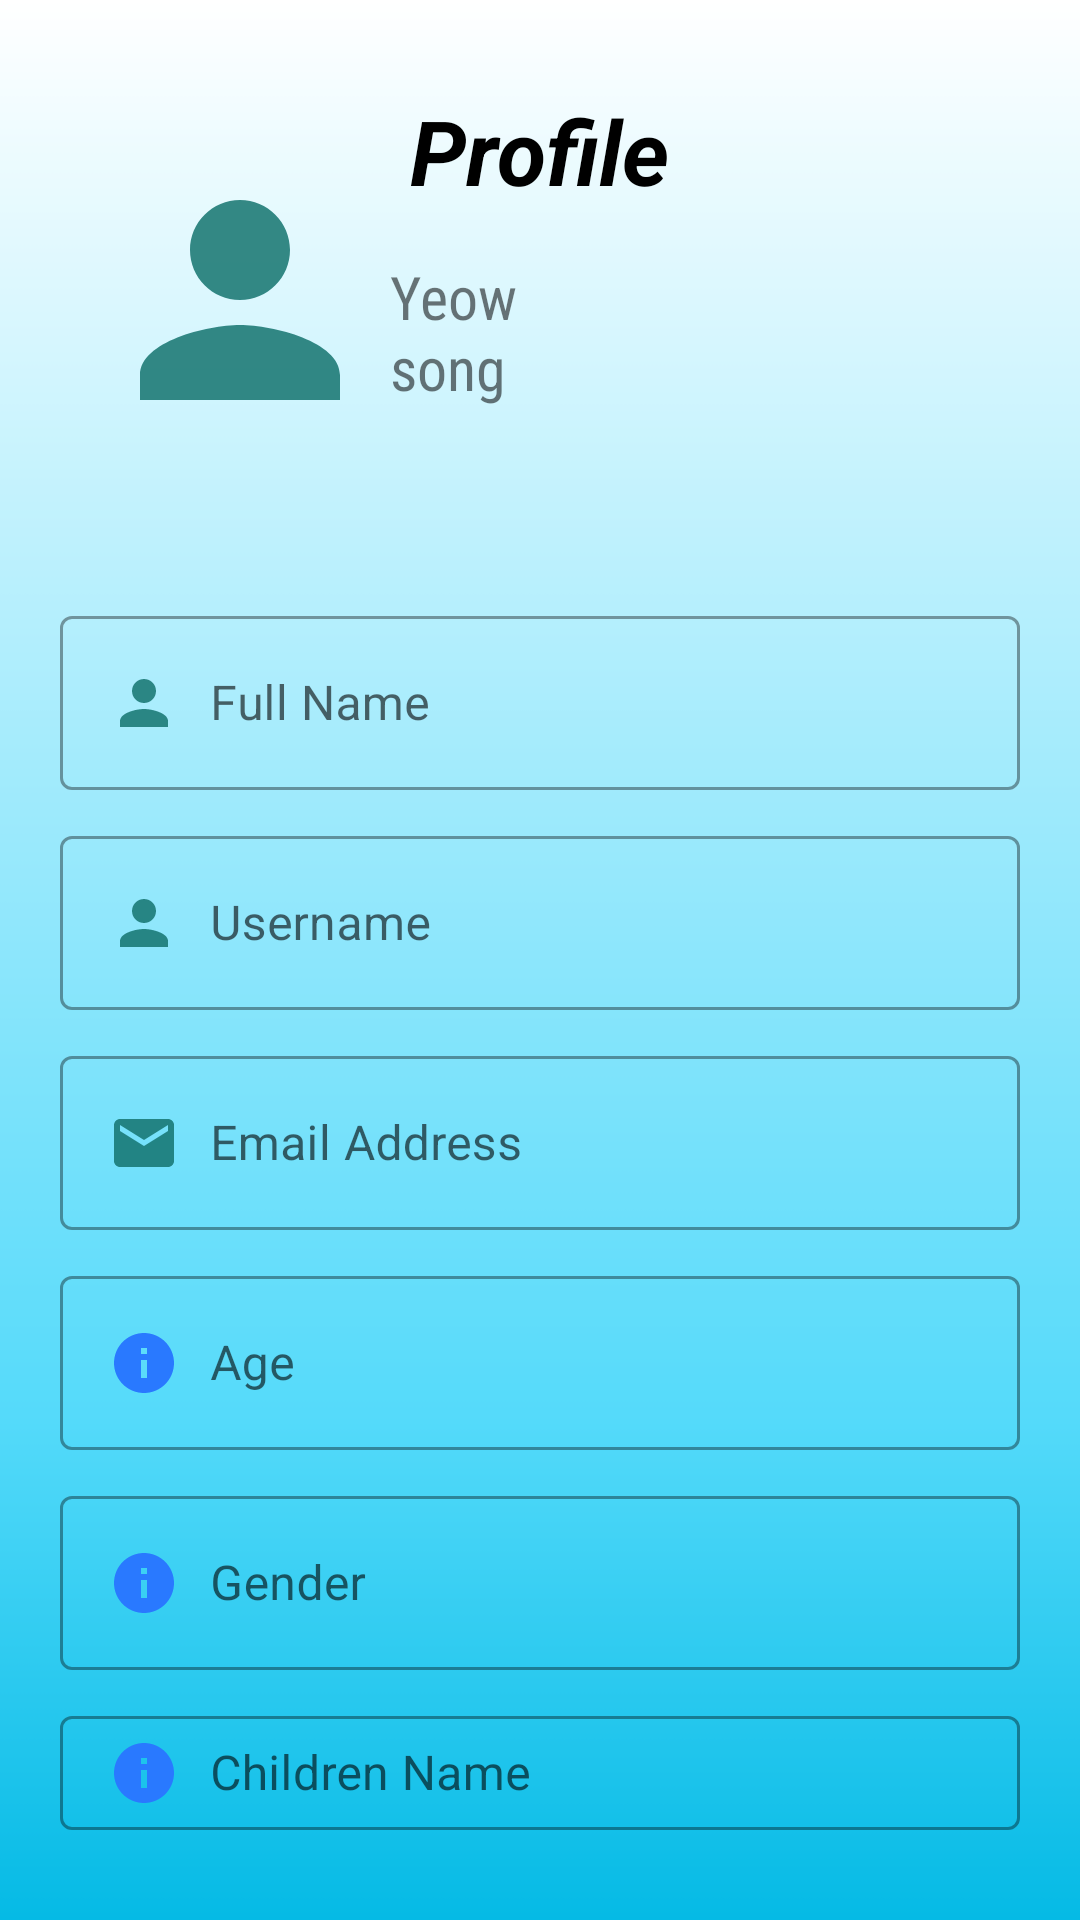

Icons on this 1080 × 1920 Android screen, each with the point to tap as [x,y]:
person: [240,300]
